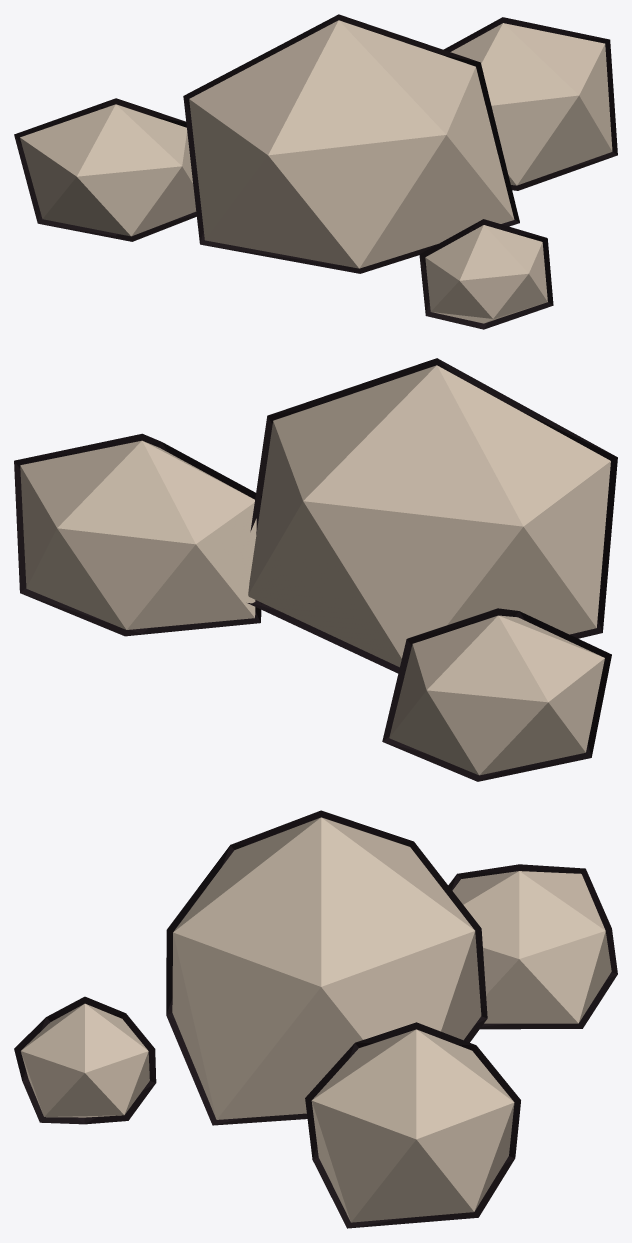
The model's file is SM_Rock_04.fbx.
The picture shows the model from 3 angles, top to bottom: view 1: azimuth 30°, elevation 25°; view 2: azimuth 150°, elevation 25°; view 3: azimuth 270°, elevation 25°; orthographic projection. The views are drawn at different scales.
Parts seen in each view (by area): view 1: SM_Rock_04; view 2: SM_Rock_04; view 3: SM_Rock_04.
Boxes of the visible parts, x1,y1,x2,y2 form: SM_Rock_04: (14, 14, 617, 329); SM_Rock_04: (14, 358, 617, 781); SM_Rock_04: (14, 810, 617, 1228).
Size of the model in its own units: 1.85 by 0.8394 by 1.59.
